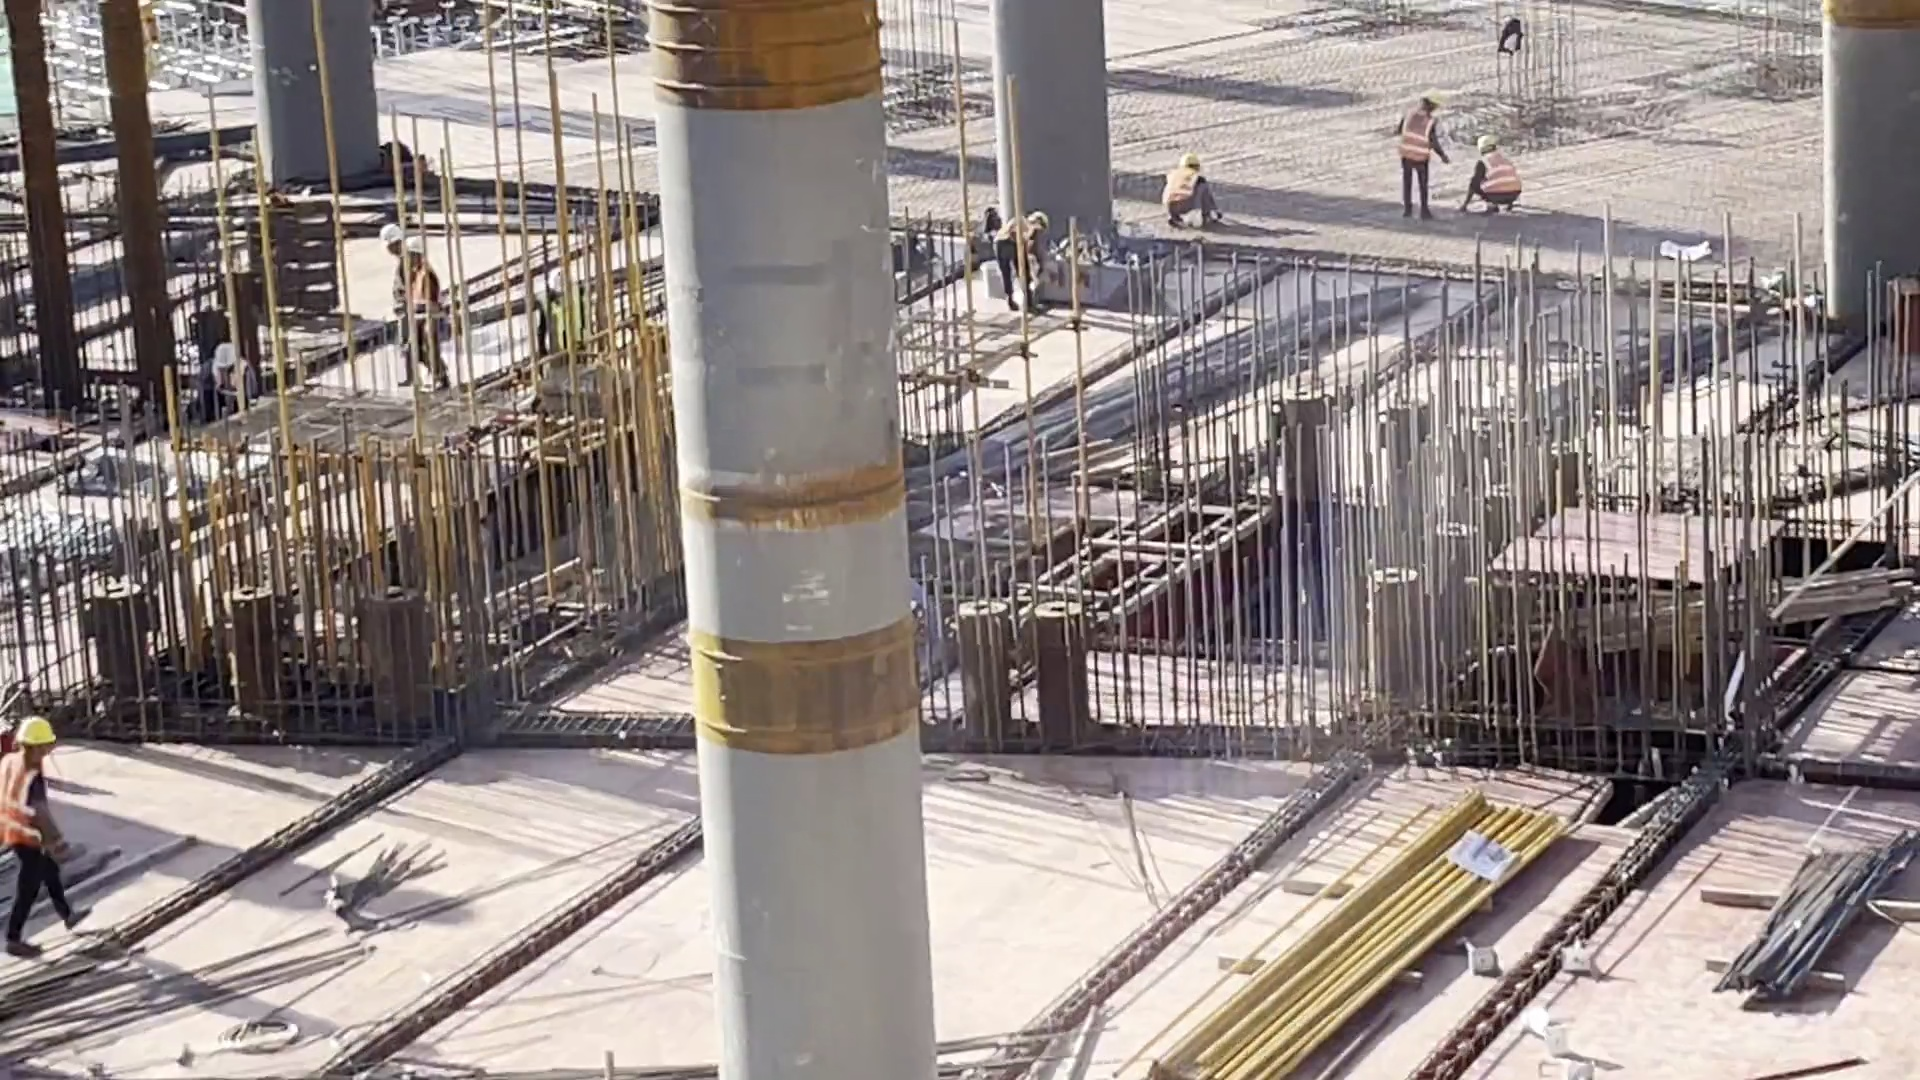helmet: (379, 223, 427, 259), (11, 719, 61, 749), (1176, 152, 1204, 182), (1478, 129, 1504, 146)
hopper: (997, 220, 1174, 317)
person: (1, 702, 73, 941), (382, 216, 438, 365), (982, 204, 1054, 316), (193, 334, 262, 432), (1458, 126, 1526, 216), (1397, 86, 1437, 216), (1167, 134, 1211, 226)
vest: (7, 749, 56, 846), (390, 274, 434, 329), (1475, 155, 1518, 205), (1397, 113, 1430, 175), (1160, 163, 1201, 209), (1000, 213, 1035, 263)
